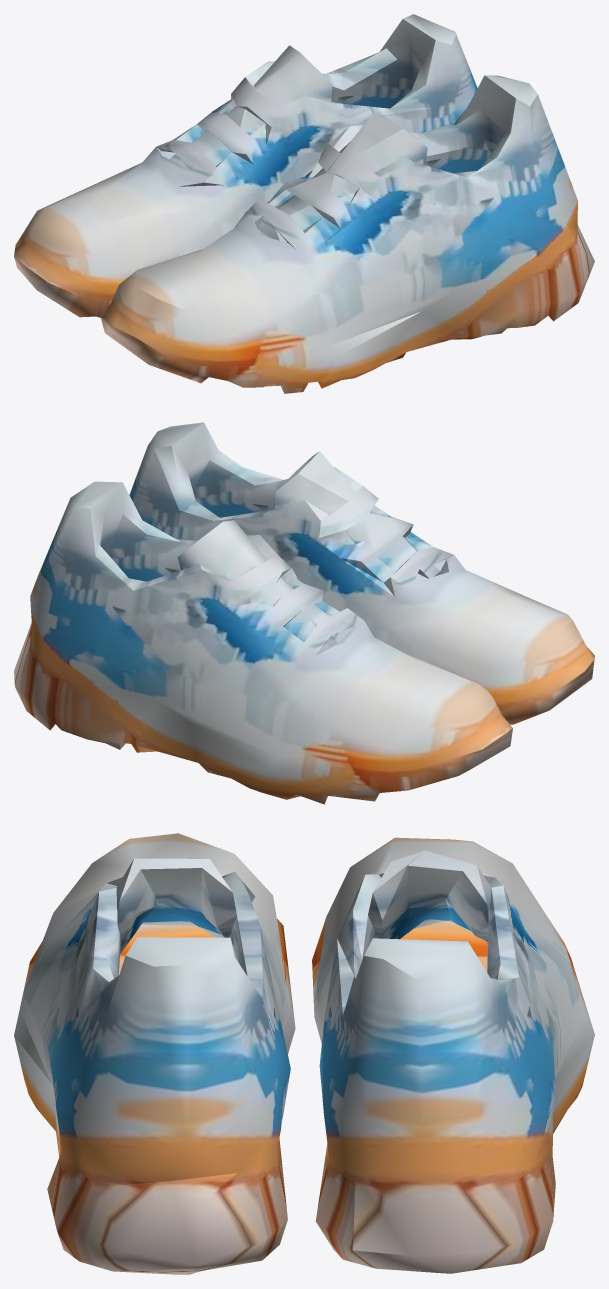
3 renders of one model, top to bottom at view 1: azimuth 30°, elevation 25°; view 2: azimuth 150°, elevation 25°; view 3: azimuth 270°, elevation 25°, orthographic. The views are drawn at different scales.
Parts seen in each view (by area): view 1: Decor_running_spikes; view 2: Decor_running_spikes; view 3: Decor_running_spikes.
Boxes of the visible parts, box(x1,y1,x2,y2) form: Decor_running_spikes: box(14, 14, 594, 393); Decor_running_spikes: box(14, 422, 594, 804); Decor_running_spikes: box(14, 833, 594, 1274).
Bounding box in the file's own units: 0.3257 × 0.1399 × 0.237.
1 material, 1 textured.
